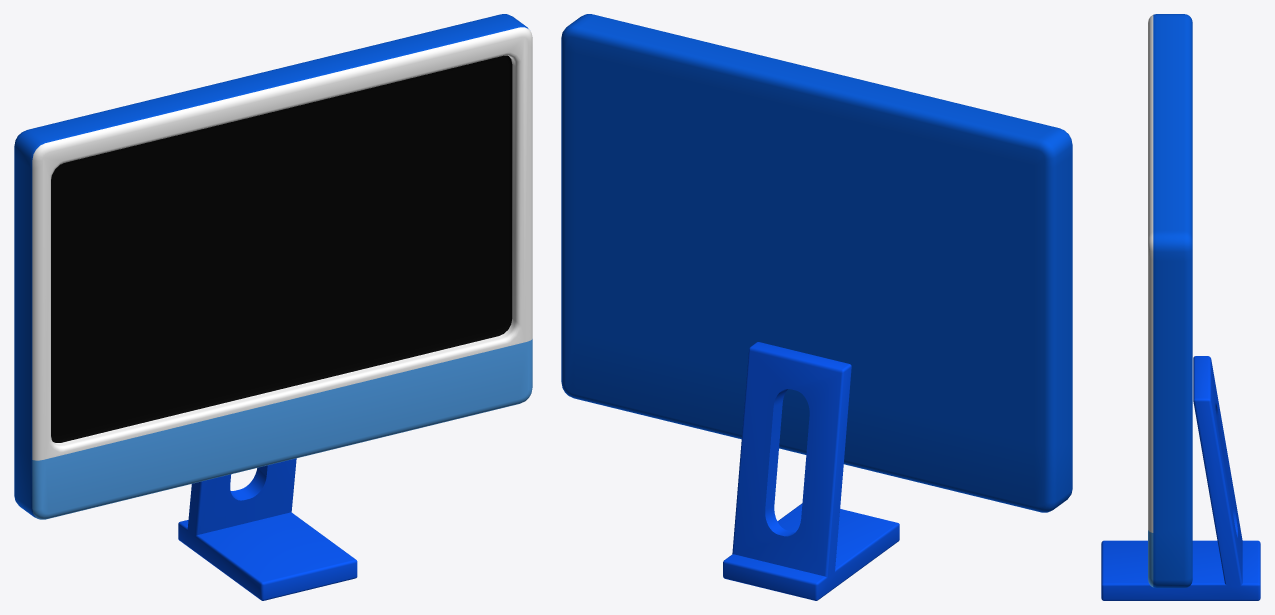
The model's file is monitor.gltf.
3 renders of one model, left to right at view 1: azimuth 30°, elevation 25°; view 2: azimuth 150°, elevation 25°; view 3: azimuth 270°, elevation 25°, orthographic. The views are drawn at different scales.
Parts seen in each view (by area): view 1: Cube.050; view 2: Cube.050; view 3: Cube.050.
Part boxes in pixels (box(x1,y1,x2,y2)): Cube.050: box(14, 14, 532, 600); Cube.050: box(561, 14, 1072, 600); Cube.050: box(1101, 14, 1260, 600).
Bounding box in the file's own units: 3.09 × 2.86 × 0.9042.
